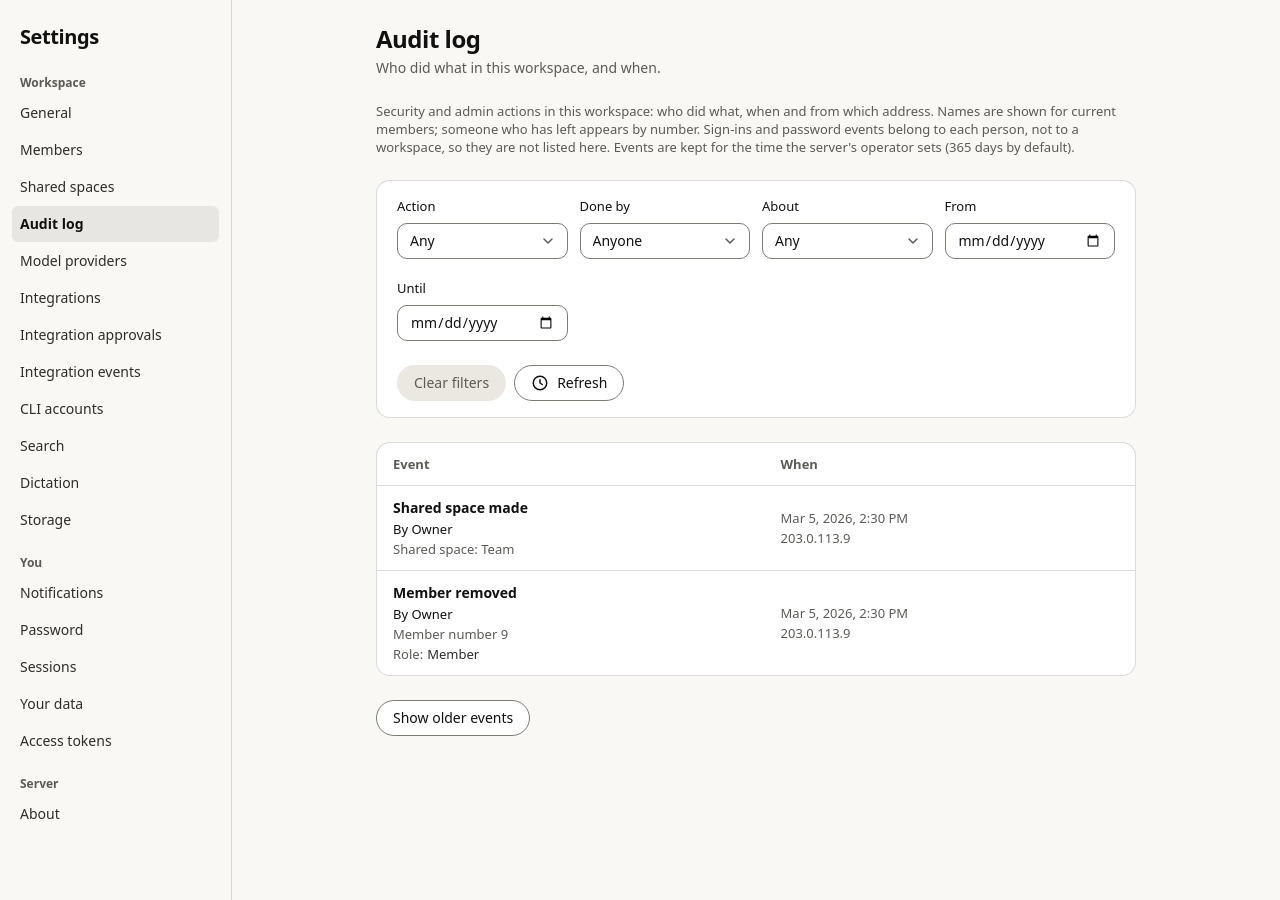
it: filters go to the server, and older events are asked for with the cursor
The image size is (1280, 900).
Click the button "Show older events" at x=453, y=718, box [376, 700, 530, 736]
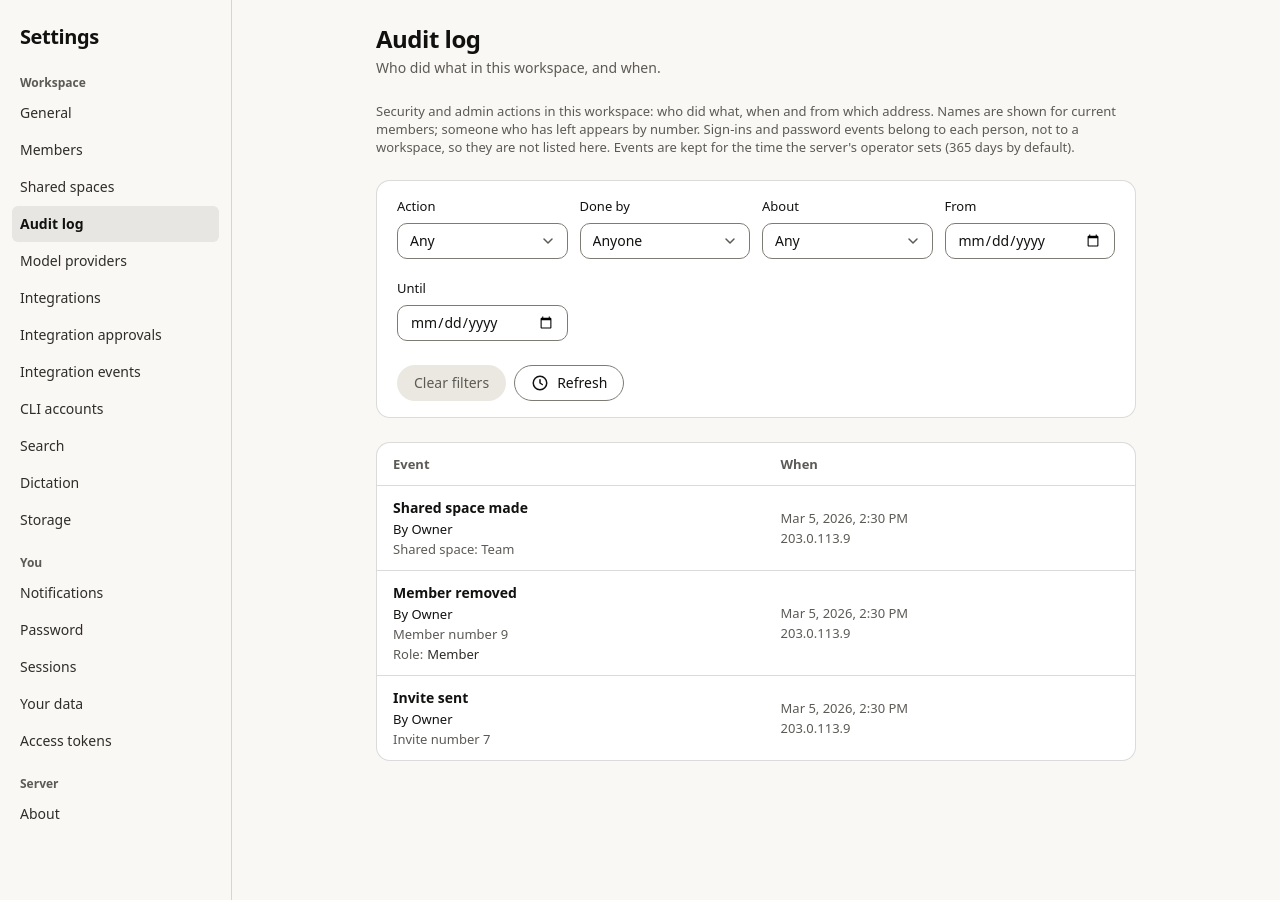
Expected: the text "Shared space made" is shown, [393, 498, 528, 517]
Expected: the text "Invite sent" is shown, [393, 688, 468, 707]
Expected: the button "Show older events" is gone
Select "Member removed" in the dropdown labelled "Action" at x=482, y=241, box [397, 223, 568, 259]
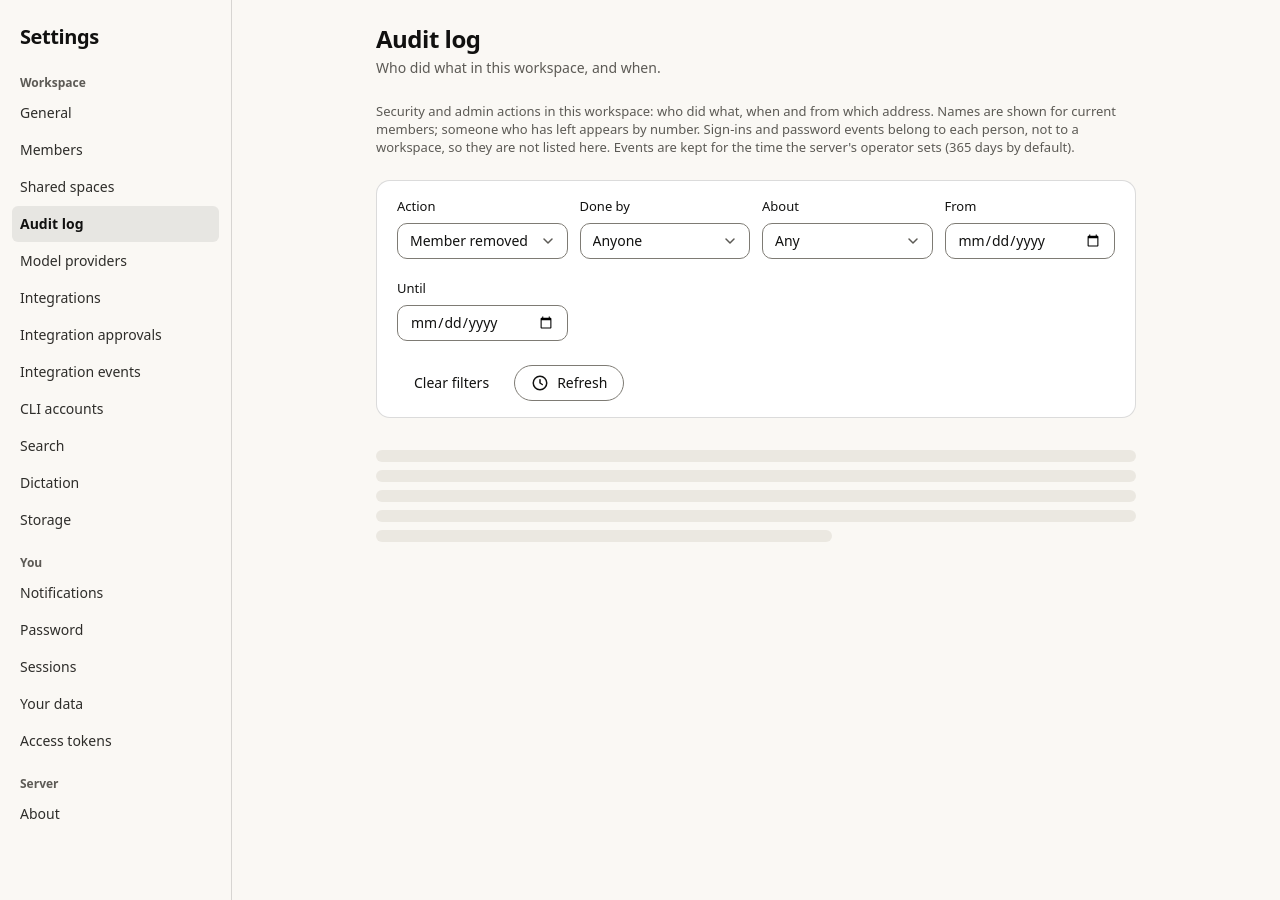
Select "Bea" in the dropdown labelled "Done by" at x=665, y=241, box [580, 223, 750, 259]
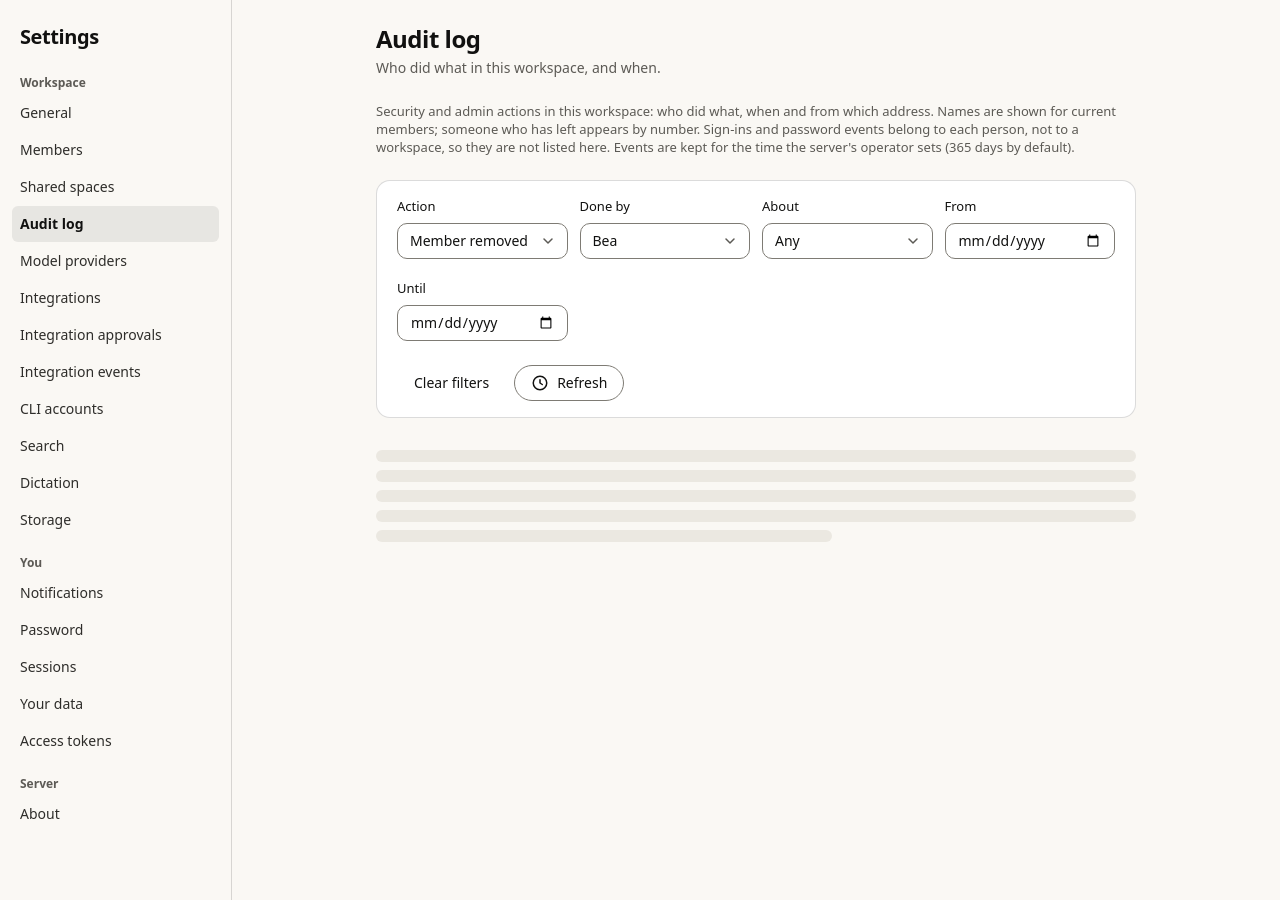
Select "Member" in the dropdown labelled "About" at x=847, y=241, box [762, 223, 932, 259]
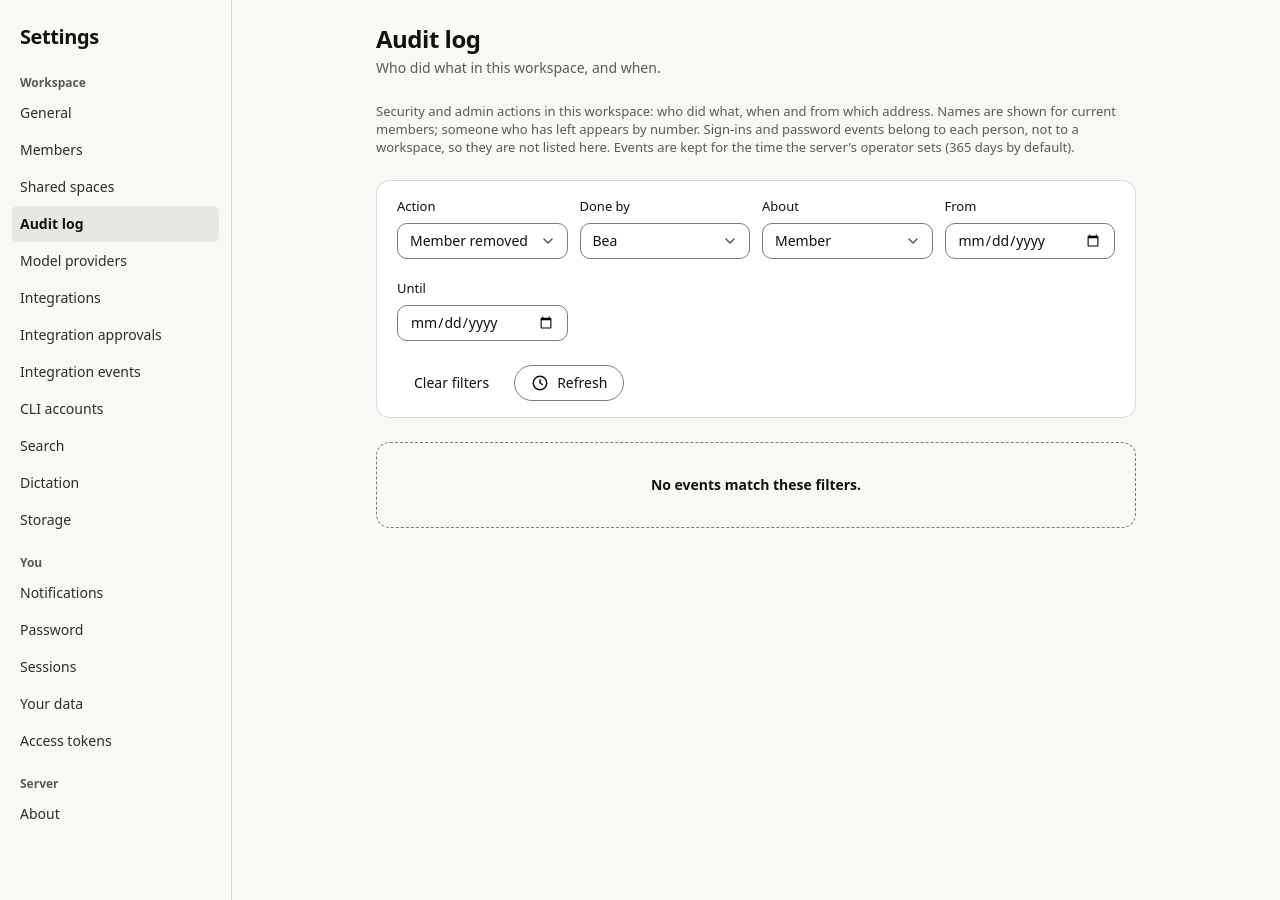
Expected: the text "No events match these filters." is shown, [651, 475, 861, 495]
Click the button "Clear filters" at x=452, y=383, box [397, 365, 506, 401]
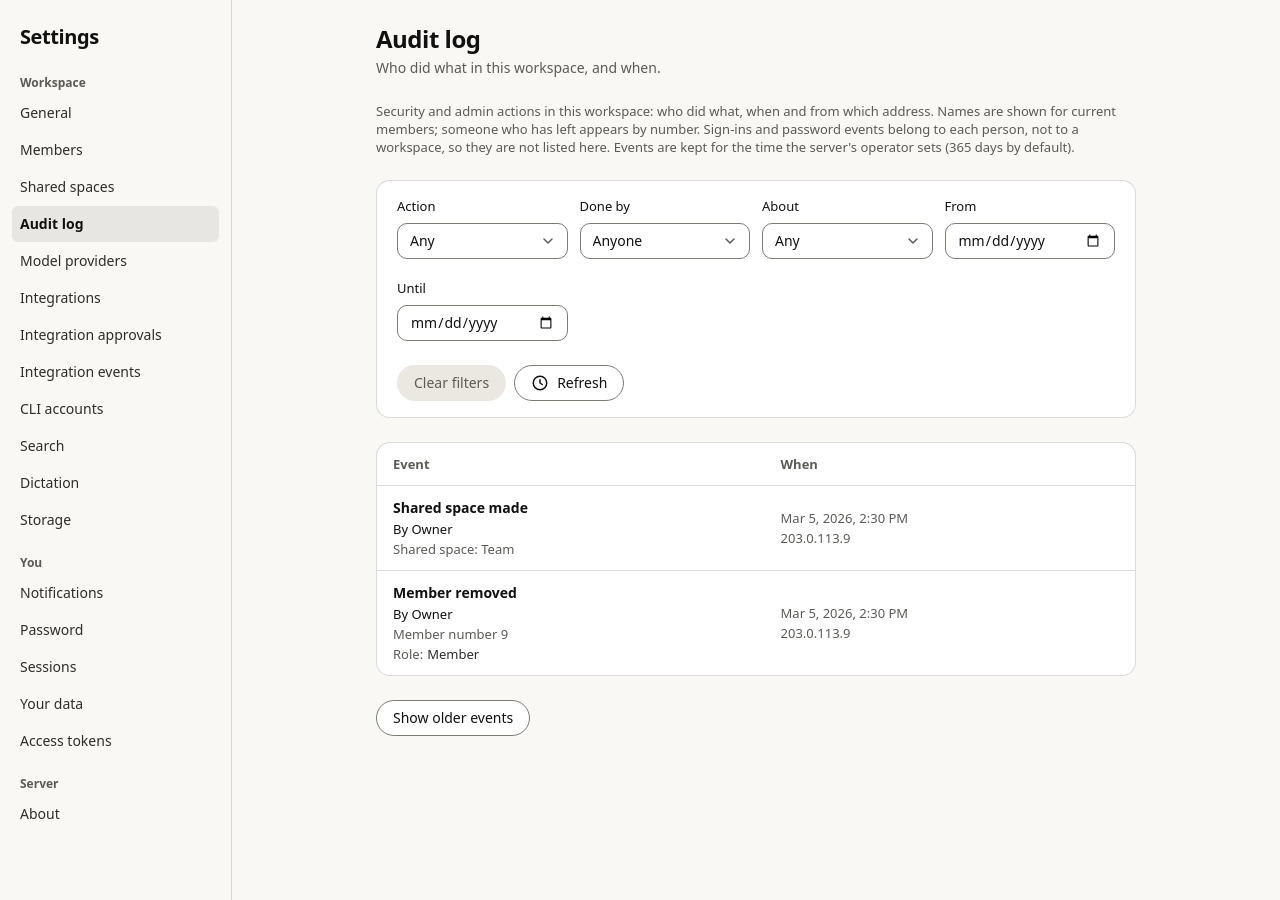
Expected: the table named "Audit log" is shown, [377, 443, 1135, 675]
Expected: the text "Member removed" is shown, [393, 583, 517, 602]
